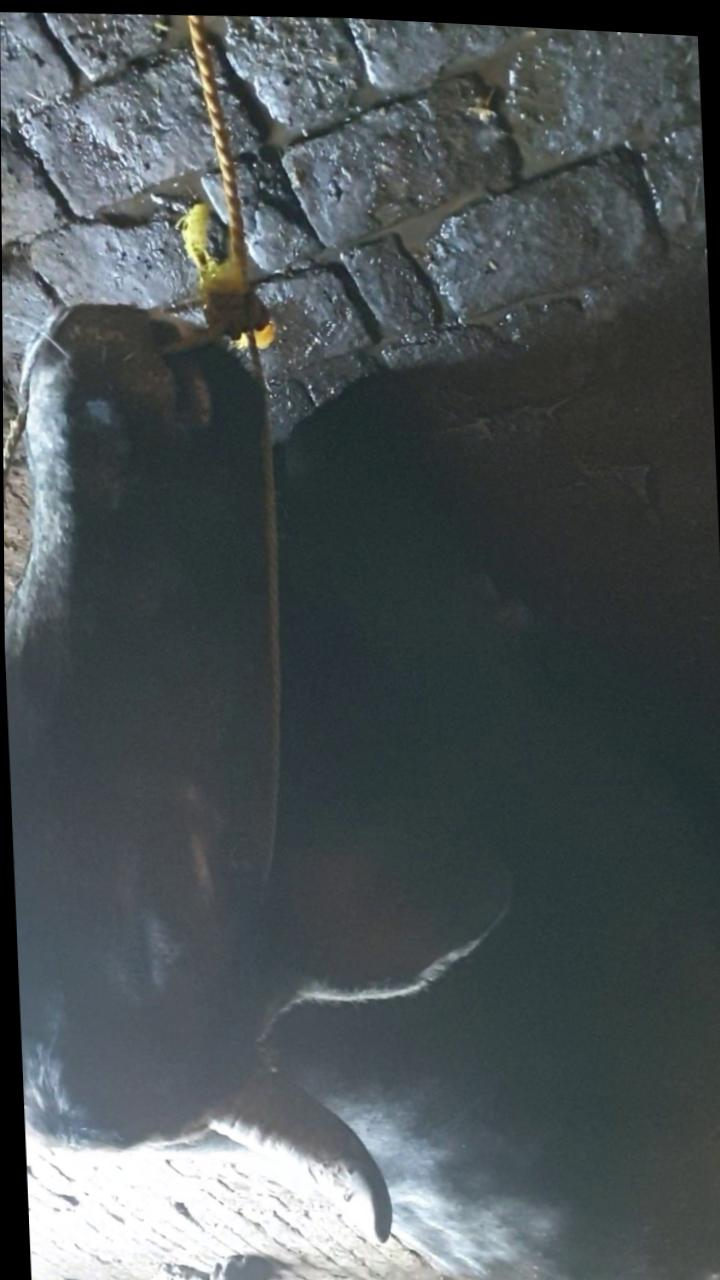cows: (1, 203, 308, 1193)
